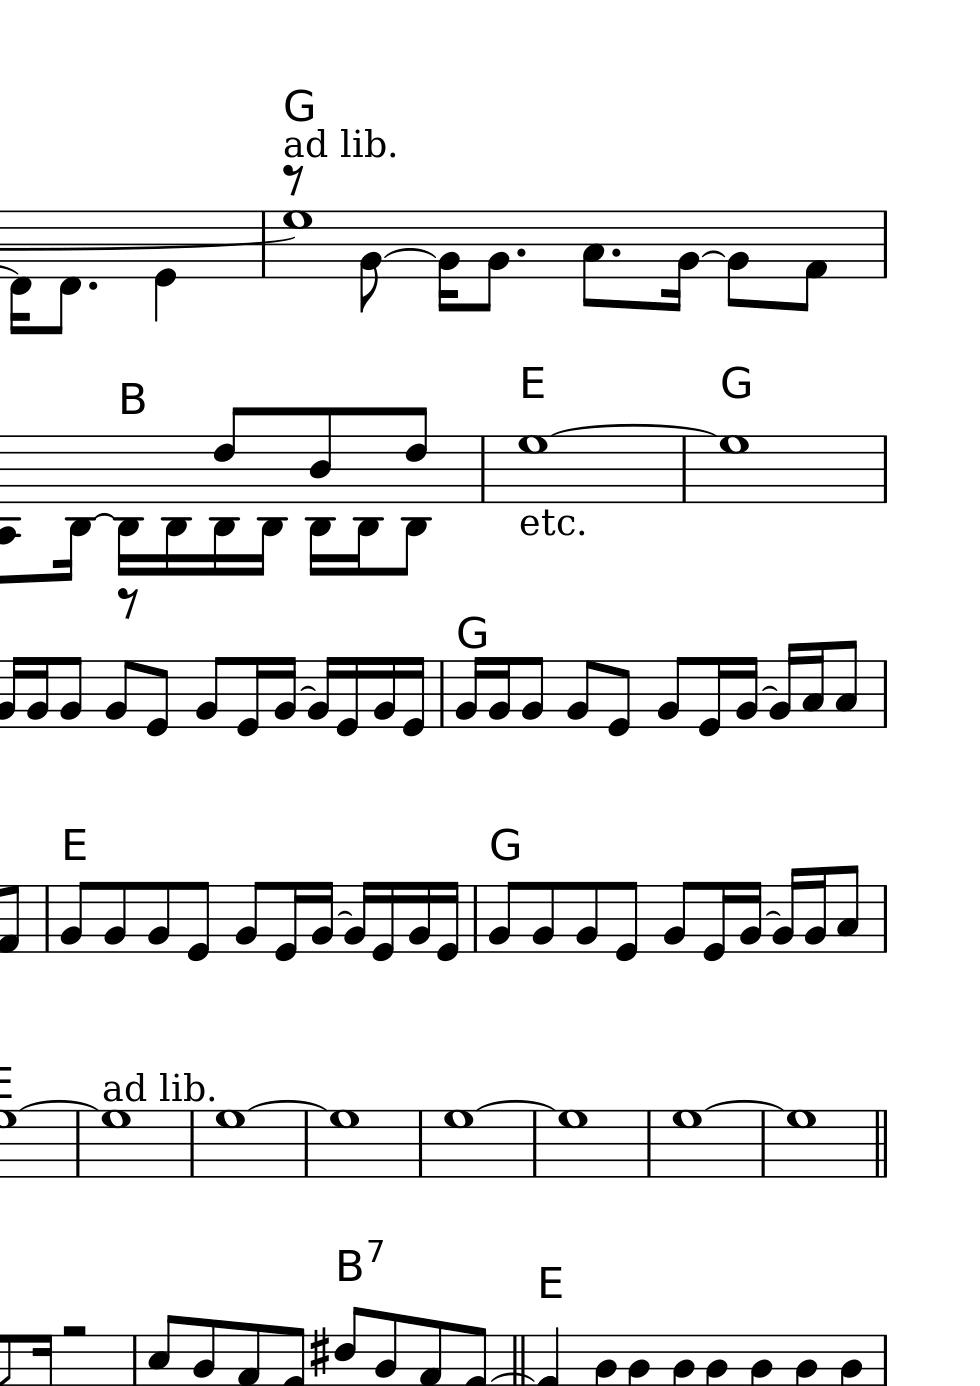16_-1: (8, 205, 32, 337)
16_-3: (59, 433, 94, 582), (113, 433, 142, 576), (257, 434, 285, 577), (163, 434, 191, 577), (351, 433, 379, 576)
16_0: (233, 656, 268, 740), (693, 655, 728, 739), (270, 880, 305, 964), (698, 880, 733, 964), (398, 656, 427, 738), (369, 878, 397, 964), (333, 654, 361, 739), (433, 879, 460, 963)
16_2: (662, 208, 699, 314), (766, 641, 799, 729), (769, 866, 802, 954), (304, 654, 338, 732), (436, 209, 460, 314), (342, 879, 373, 957), (453, 655, 485, 730), (804, 865, 827, 955), (309, 879, 335, 955), (733, 654, 759, 730), (737, 878, 763, 955), (272, 654, 297, 730), (371, 655, 397, 731), (407, 879, 432, 957), (487, 656, 512, 730), (25, 655, 50, 729)
16_3: (801, 641, 825, 730)
1_7: (517, 435, 550, 505), (718, 434, 751, 506), (99, 1109, 132, 1180), (327, 1109, 358, 1180), (214, 1109, 246, 1179), (283, 210, 312, 280)
4_0: (153, 209, 176, 324)
7: (367, 1236, 384, 1263)
8_-1: (52, 208, 82, 335)
8_0: (183, 879, 213, 965), (143, 657, 172, 740), (612, 879, 640, 965), (605, 659, 633, 740)
8_1: (795, 208, 827, 314)
8_2: (478, 209, 508, 314), (192, 655, 227, 730), (232, 879, 266, 955), (357, 208, 382, 314), (660, 880, 694, 955), (485, 880, 518, 955), (654, 655, 687, 730), (725, 210, 750, 310), (58, 879, 89, 955), (564, 659, 596, 730), (102, 659, 134, 729), (101, 879, 127, 955), (145, 879, 172, 955), (574, 879, 600, 955), (530, 879, 556, 955), (519, 655, 544, 730), (58, 655, 82, 730)
8_3: (580, 208, 605, 310), (833, 638, 858, 729), (835, 863, 859, 955)
8_4: (307, 404, 333, 504)
8_6: (212, 404, 245, 504), (403, 404, 428, 505)
8_7: (671, 1109, 703, 1180), (785, 1109, 817, 1179), (443, 1109, 474, 1180), (556, 1110, 587, 1180)
Final_barline: (870, 1109, 891, 1178)
Rests2: (58, 1319, 90, 1343)
Rests8: (115, 585, 141, 619)
Single_barline: (875, 210, 894, 278), (875, 435, 894, 503), (253, 211, 272, 277), (433, 660, 450, 727), (412, 1109, 428, 1177), (640, 1110, 657, 1177), (474, 436, 491, 502), (754, 1111, 771, 1177), (675, 437, 692, 502), (183, 1112, 200, 1177), (526, 1112, 543, 1177), (877, 660, 893, 729), (876, 885, 892, 953), (467, 885, 483, 952), (298, 1111, 314, 1177), (70, 1112, 86, 1177), (40, 885, 55, 952)
Slur: (553, 421, 719, 437), (249, 1096, 329, 1110), (475, 1098, 557, 1110), (704, 1099, 784, 1110), (17, 1100, 95, 1109), (385, 247, 442, 259), (700, 251, 727, 260), (760, 685, 778, 694), (299, 686, 316, 694)
dot: (607, 245, 623, 261), (513, 245, 528, 260), (85, 279, 100, 293)
